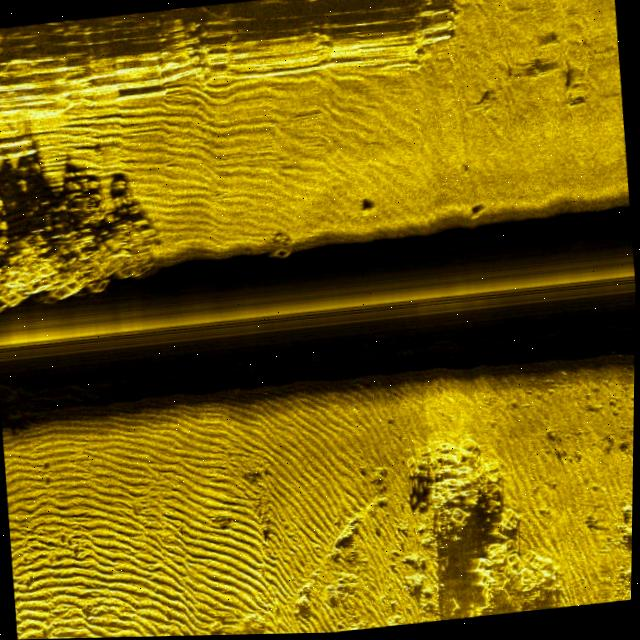artificial reef: (410, 417, 566, 609), (0, 181, 174, 325), (253, 221, 311, 270)
